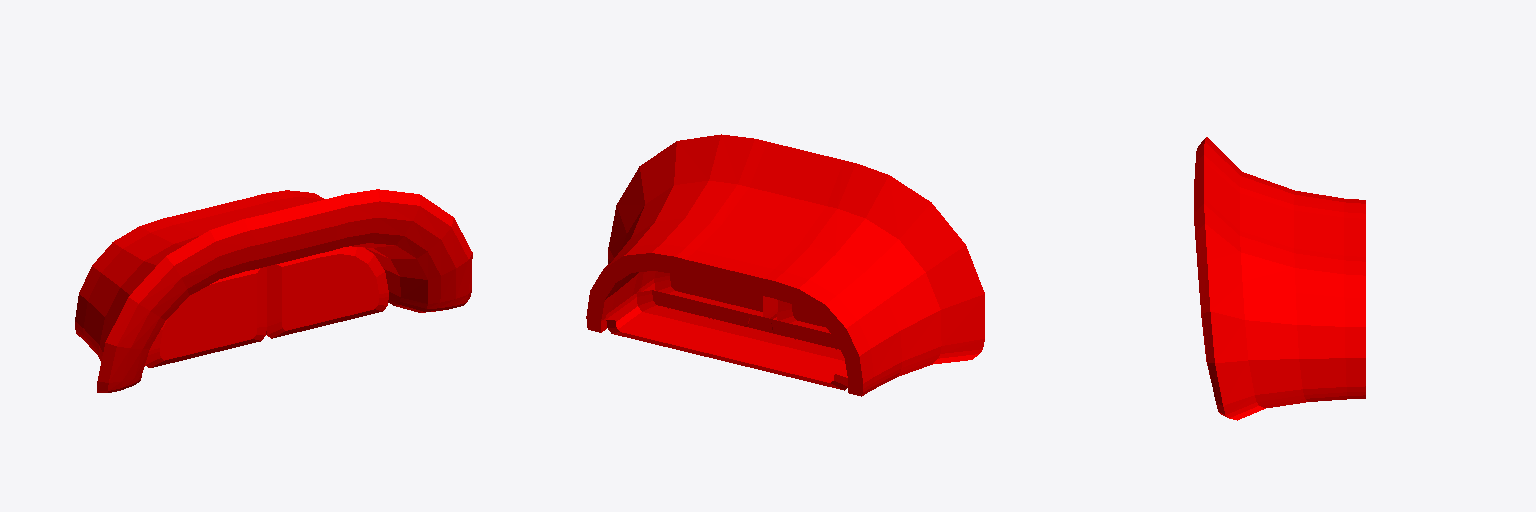
File: couch.obj
3 views of the same model, side by side, from view 1: azimuth 30°, elevation 25°; view 2: azimuth 150°, elevation 25°; view 3: azimuth 270°, elevation 25° (orthographic).
Parts seen in each view (by area): view 1: couch; view 2: couch; view 3: couch.
Part boxes in pixels (left/top/right/bottom): couch: left=75, top=189, right=472, bottom=392; couch: left=586, top=134, right=984, bottom=396; couch: left=1194, top=137, right=1365, bottom=420.
Bounding box in the file's own units: 66.9 × 26.25 × 26.43.